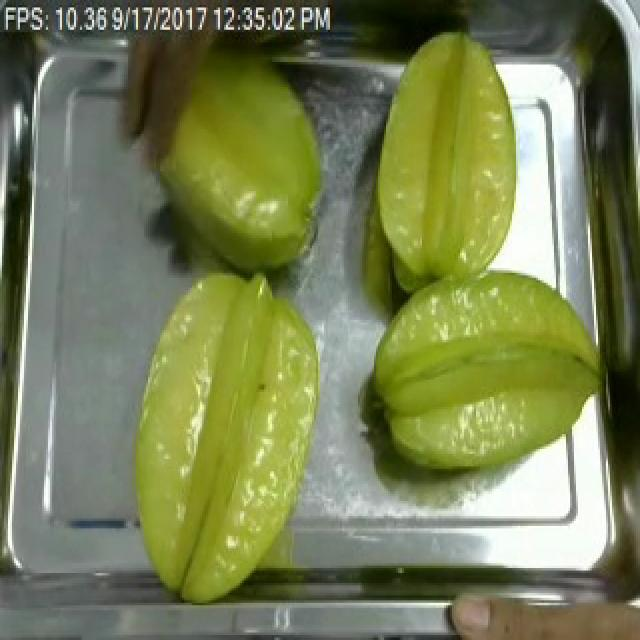fruit: (112, 260, 334, 612), (360, 258, 618, 481), (136, 20, 338, 288), (360, 20, 532, 298), (440, 568, 640, 640)
